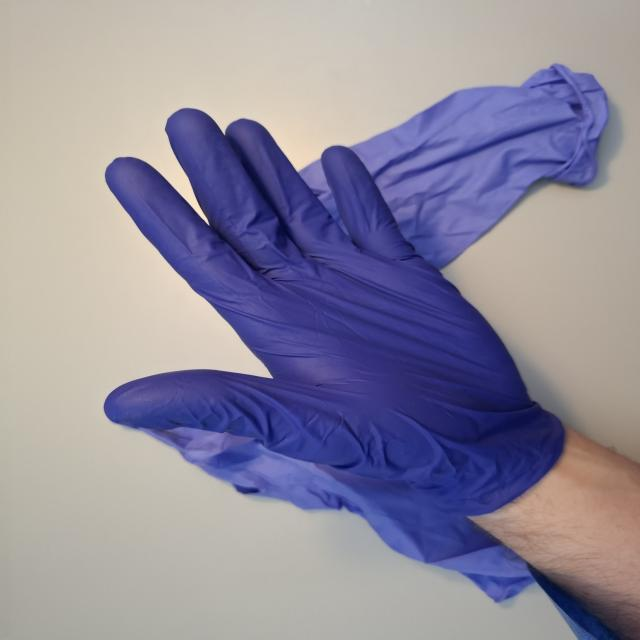glove_on: (101, 103, 565, 520)
